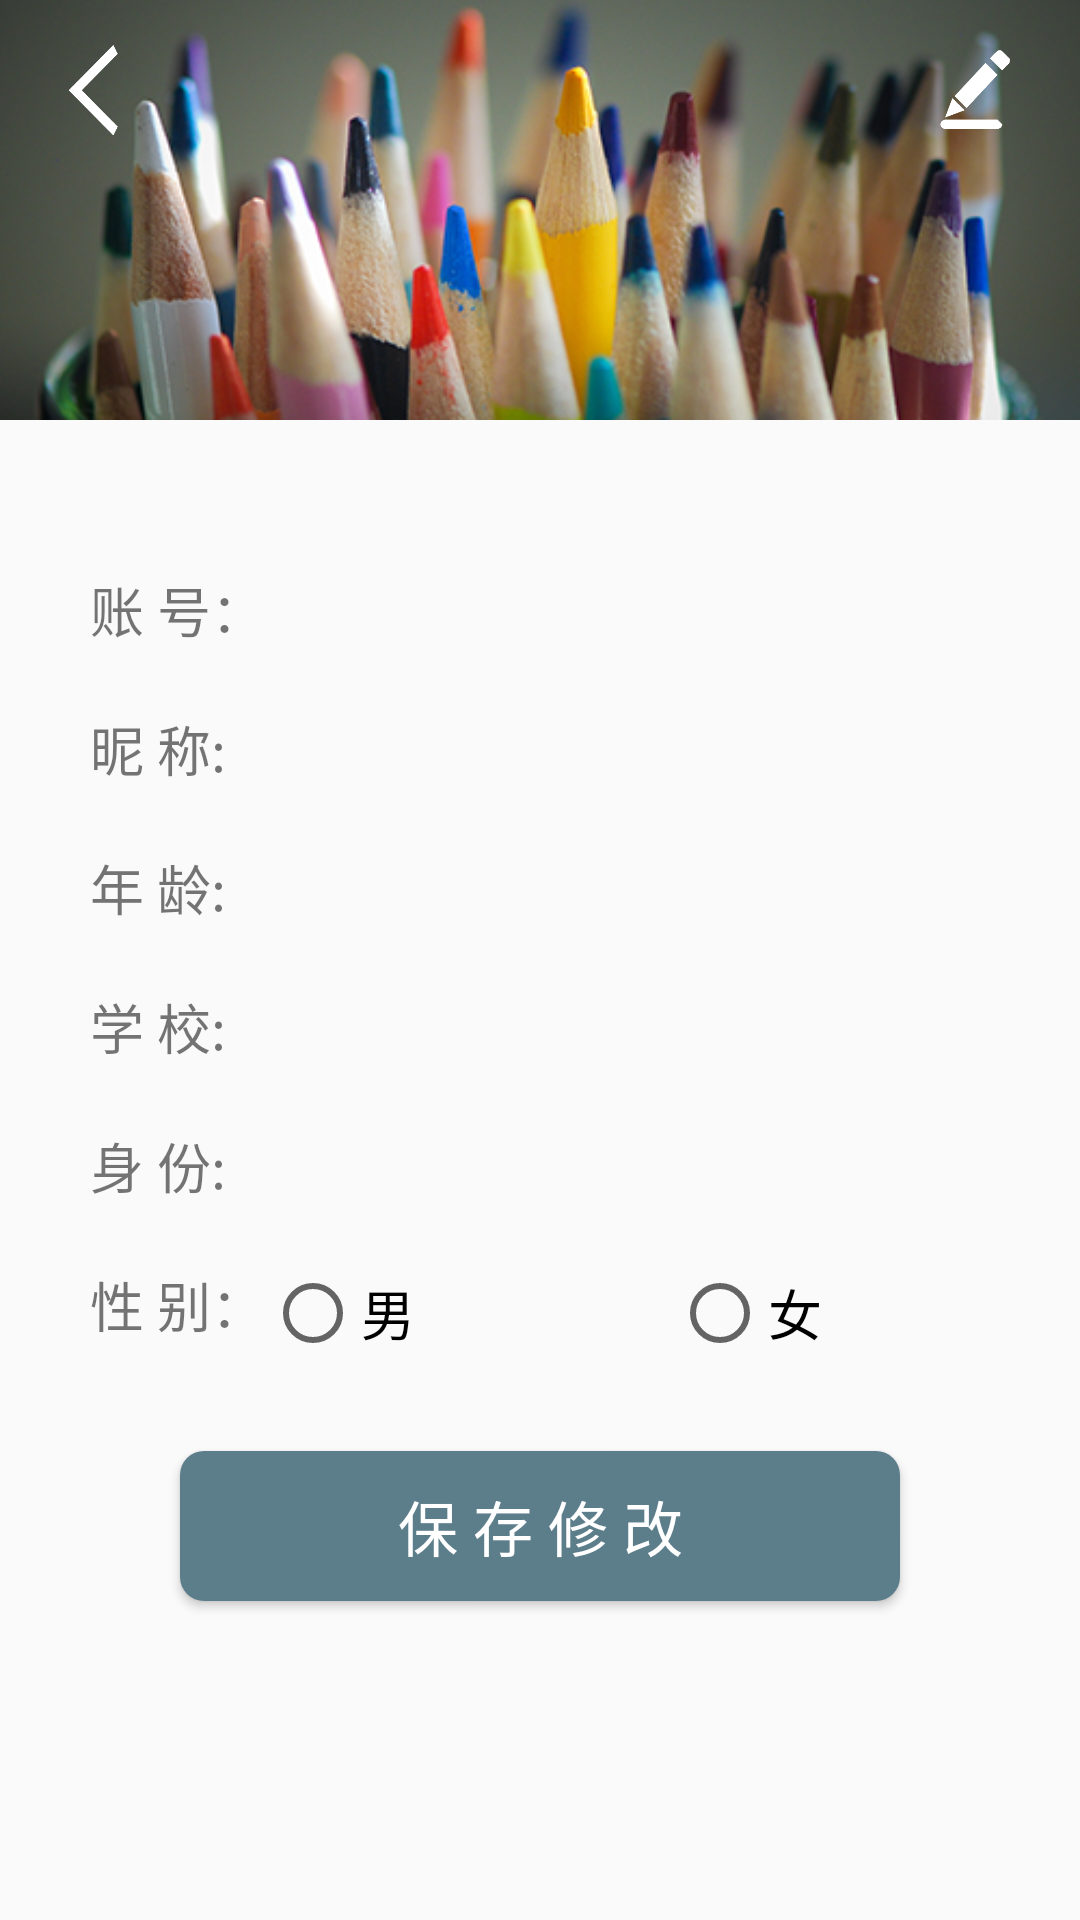

Icons on this 1080px×1920px Android screen, each with the point to tap as (x,y):
back: (93,90)
edit: (970,89)
